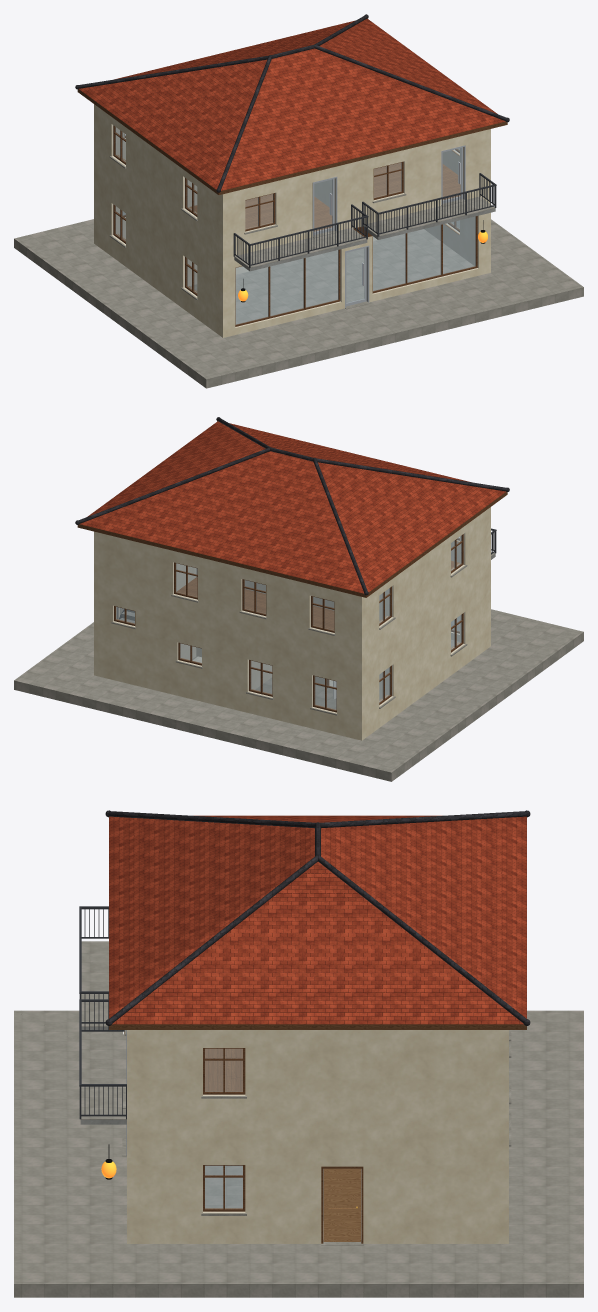
The model's file is b_spanish_plaza_house.gltf.
3 views of the same model, one above another, from view 1: azimuth 30°, elevation 25°; view 2: azimuth 150°, elevation 25°; view 3: azimuth 270°, elevation 25° (orthographic). The views are drawn at different scales.
Parts seen in each view (by area): view 1: S_spanish_plaza_house, D_spanish_plaza_house_F1_S2_Door0, D_spanish_plaza_house_F2_S1_Door0, D_spanish_plaza_house_F2_S3_Door0; view 2: S_spanish_plaza_house; view 3: S_spanish_plaza_house, D_spanish_plaza_house_F1_E1_Door0.
Part boxes in pixels (box(x1,y1,x2,y2)): S_spanish_plaza_house: box(14, 14, 583, 388); D_spanish_plaza_house_F1_S2_Door0: box(346, 247, 366, 306); D_spanish_plaza_house_F2_S1_Door0: box(314, 178, 334, 234); D_spanish_plaza_house_F2_S3_Door0: box(442, 147, 462, 203); S_spanish_plaza_house: box(14, 417, 583, 781); S_spanish_plaza_house: box(14, 810, 583, 1297); D_spanish_plaza_house_F1_E1_Door0: box(323, 1168, 360, 1241).
Size of the model in its own units: 17 by 9.36 by 15.
Materials: 22 (12 with a texture image).
